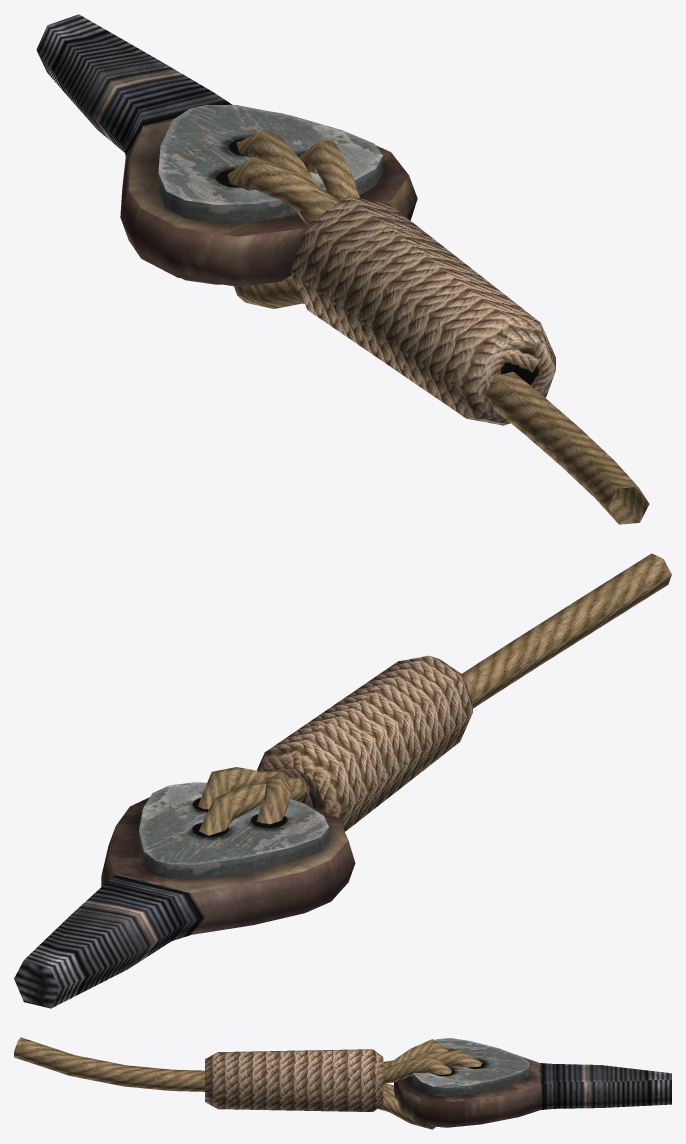
The model's file is Big Deadeye.fbx.
3 views of the same model, one above another, from view 1: azimuth 30°, elevation 25°; view 2: azimuth 150°, elevation 25°; view 3: azimuth 270°, elevation 25° (orthographic). The views are drawn at different scales.
Parts seen in each view (by area): view 1: triangular deadeye001; view 2: triangular deadeye001; view 3: triangular deadeye001.
Boxes of the visible parts, bbox=[...] form: triangular deadeye001: bbox=[36, 14, 649, 524]; triangular deadeye001: bbox=[14, 553, 671, 1008]; triangular deadeye001: bbox=[14, 1037, 671, 1129].
Size of the model in its own units: 33.67 by 147 by 17.76.
Materials: 2 (2 with a texture image).
